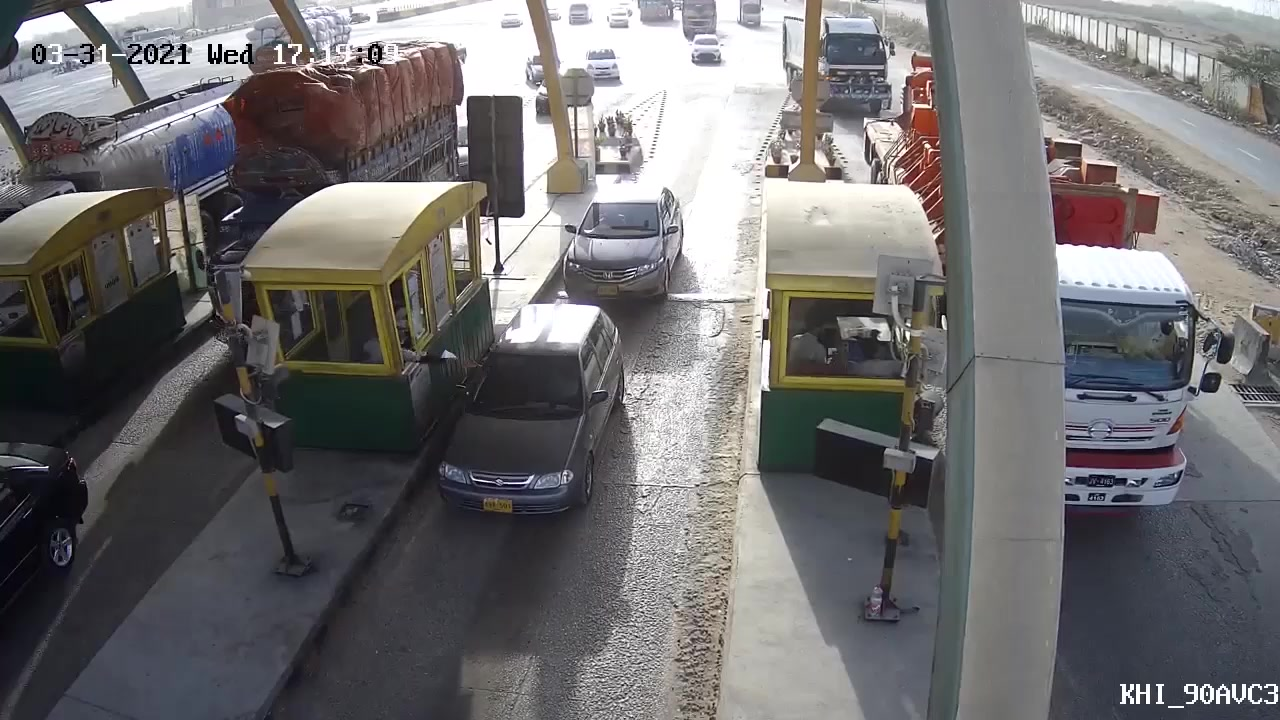F1: (435, 296, 632, 532), (543, 176, 689, 306)
